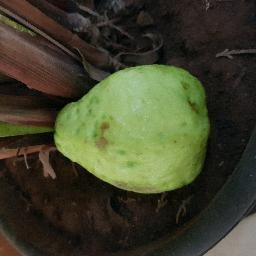Good_guava: (51, 55, 205, 192)
